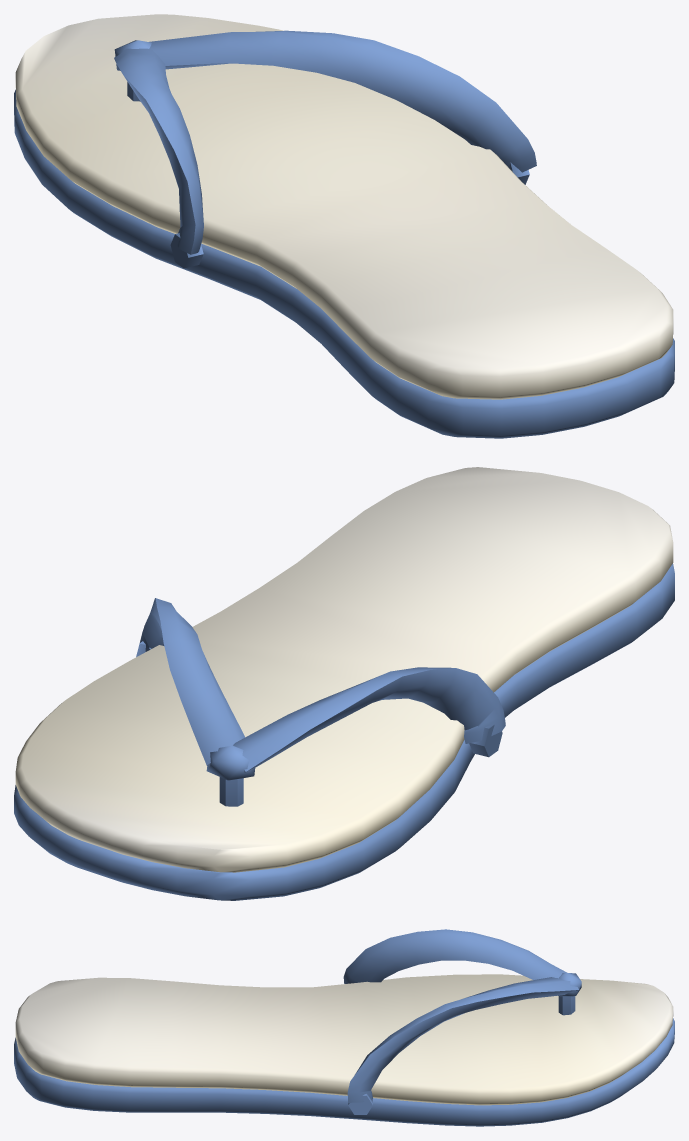
Rendered from dep_lao.glb.
3 views of the same model, one above another, from view 1: azimuth 30°, elevation 25°; view 2: azimuth 150°, elevation 25°; view 3: azimuth 270°, elevation 25° (orthographic). The views are drawn at different scales.
Parts seen in each view (by area): view 1: dep_lao; view 2: dep_lao; view 3: dep_lao.
Boxes of the visible parts, x1,y1,x2,y2 form: dep_lao: (14,14,674,438); dep_lao: (14,467,674,900); dep_lao: (14,929,674,1126).
Size of the model in its own units: 0.699 by 0.2518 by 1.6.
Materials: 1 (1 with a texture image).
